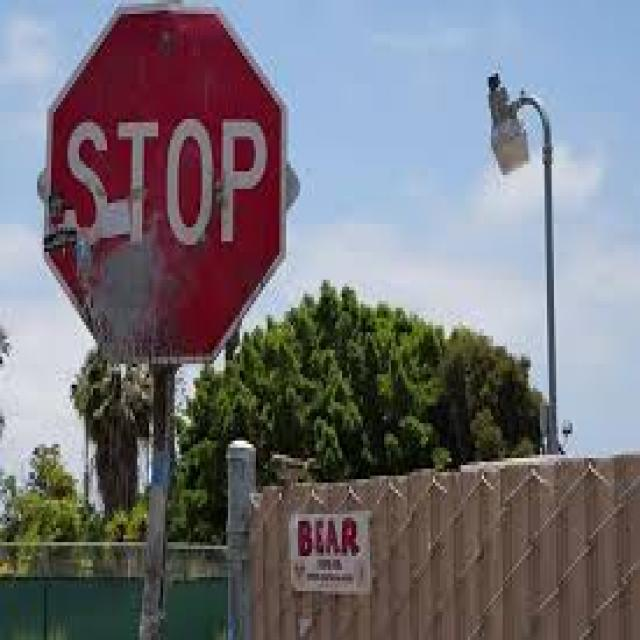stop-sign: (55, 65, 312, 331)
